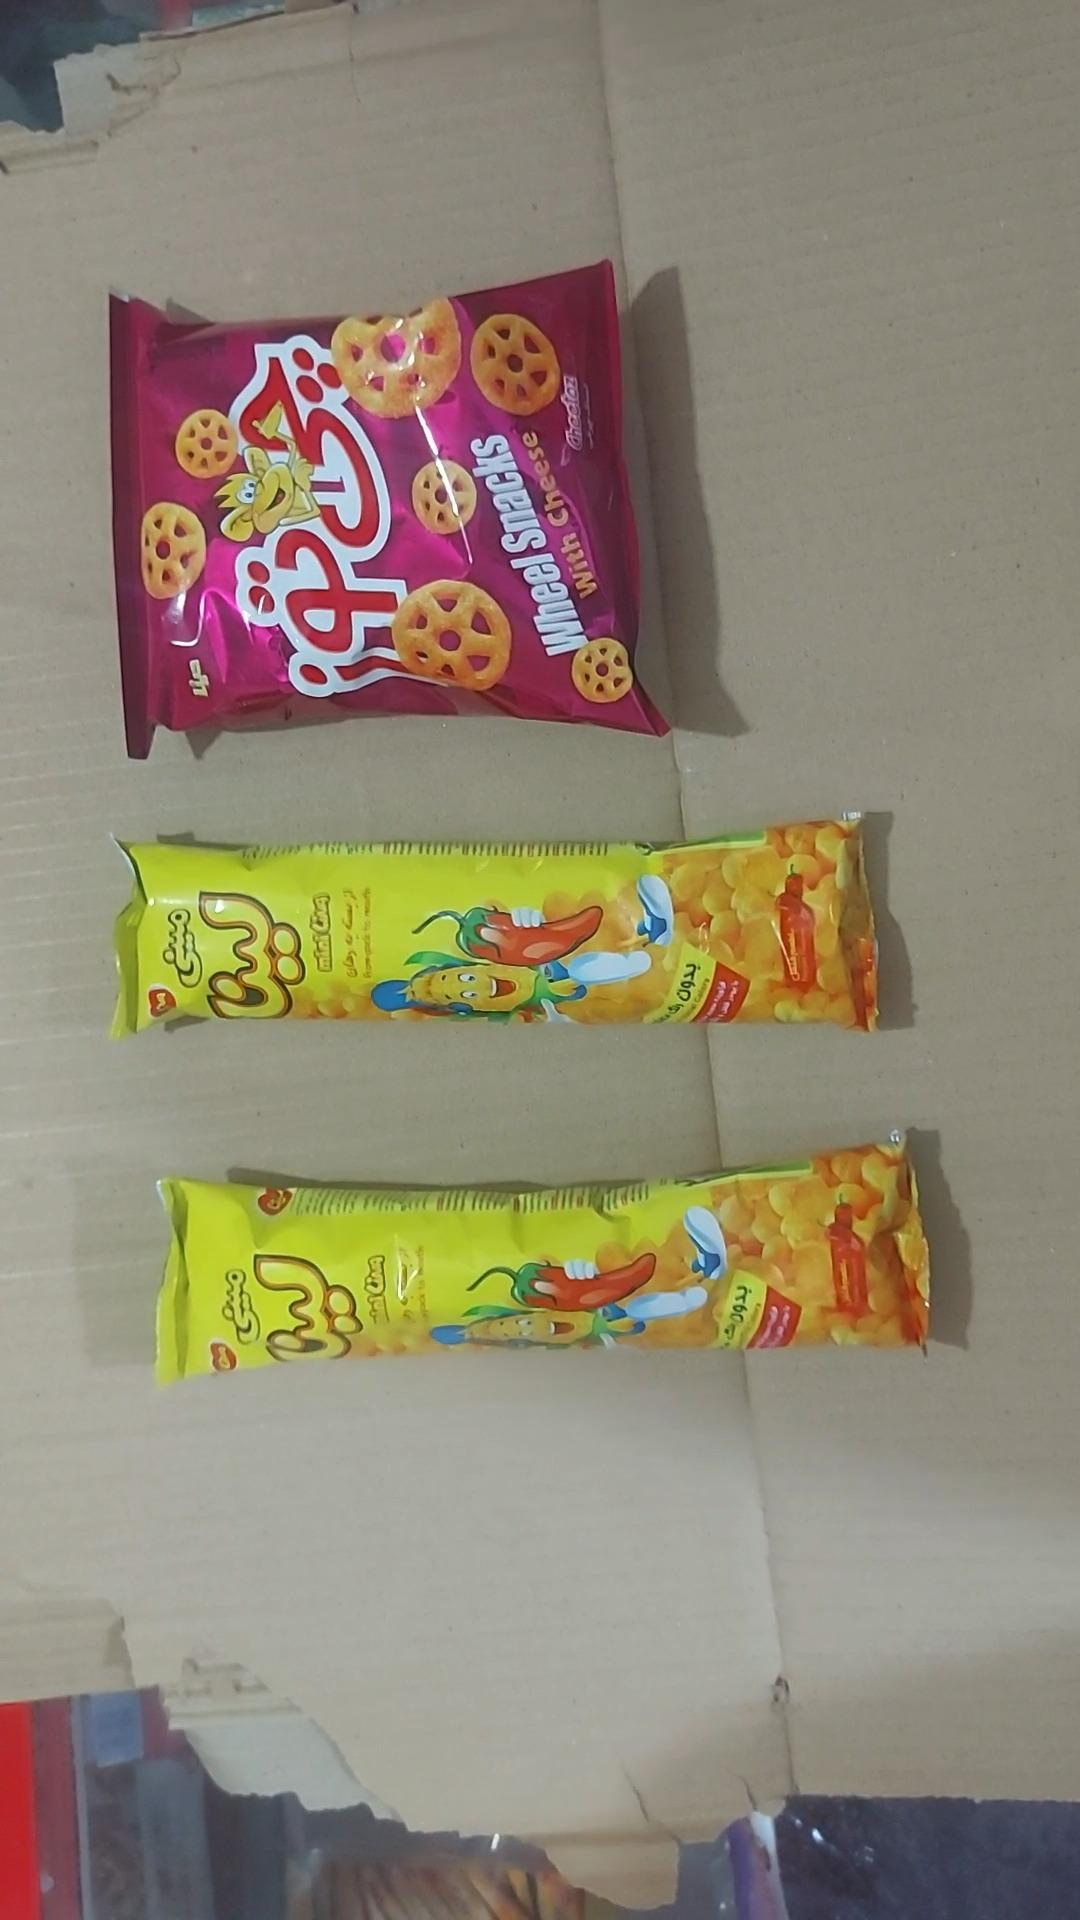Cheetoz wheelsnack: (109, 264, 665, 757)
Mini Lina: (156, 1135, 928, 1382), (113, 819, 877, 1036)
